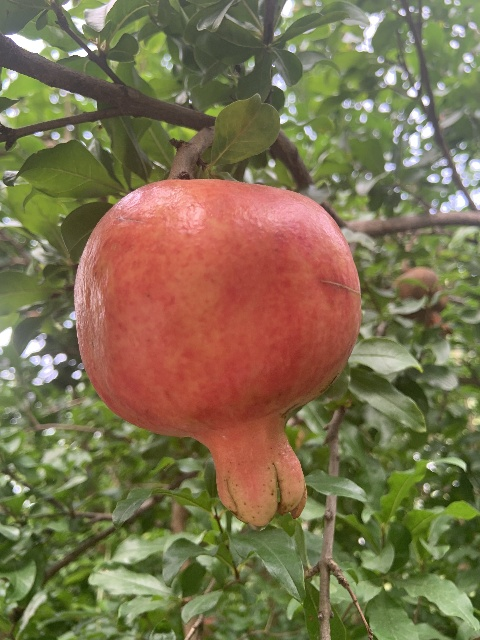ripe: (73, 179, 359, 530)
